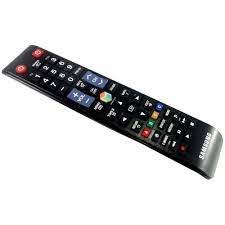remote control: (0, 32, 225, 190)
